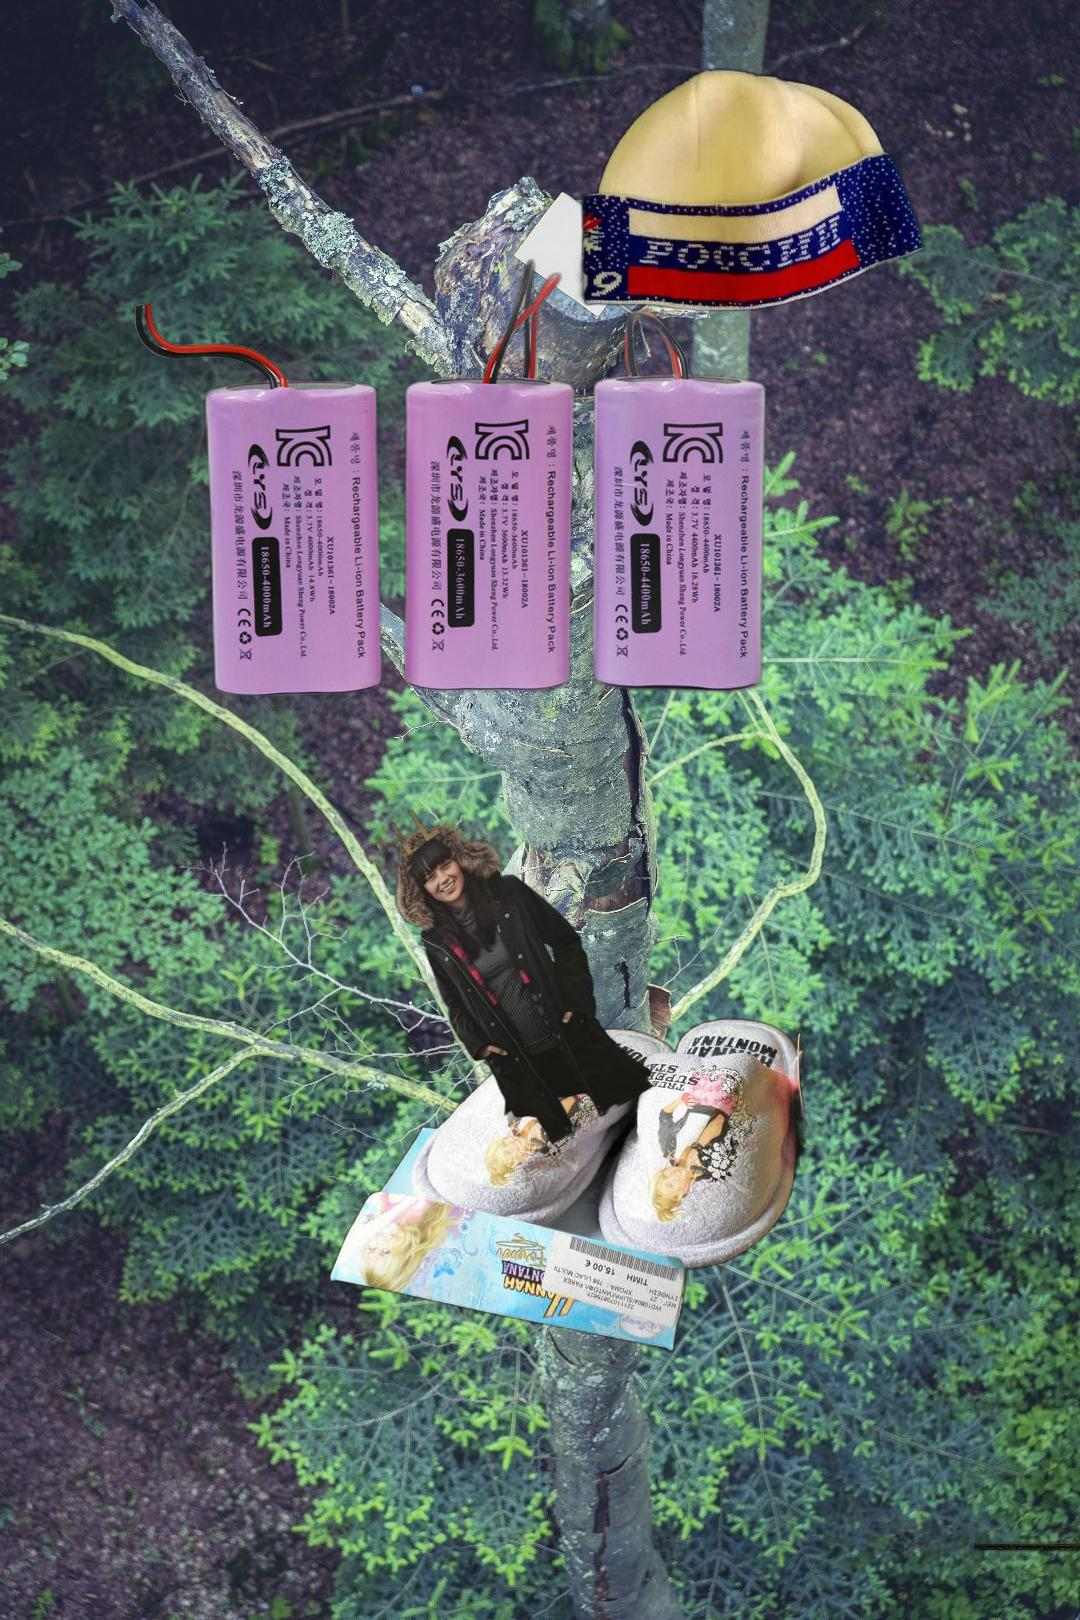battery: (128, 254, 773, 703)
clothes: (571, 65, 931, 315)
metal-cans: (974, 1395, 1080, 1620)
paper: (363, 805, 658, 1170)
paper-bag: (510, 188, 657, 319)
shoes: (325, 1016, 810, 1355)
